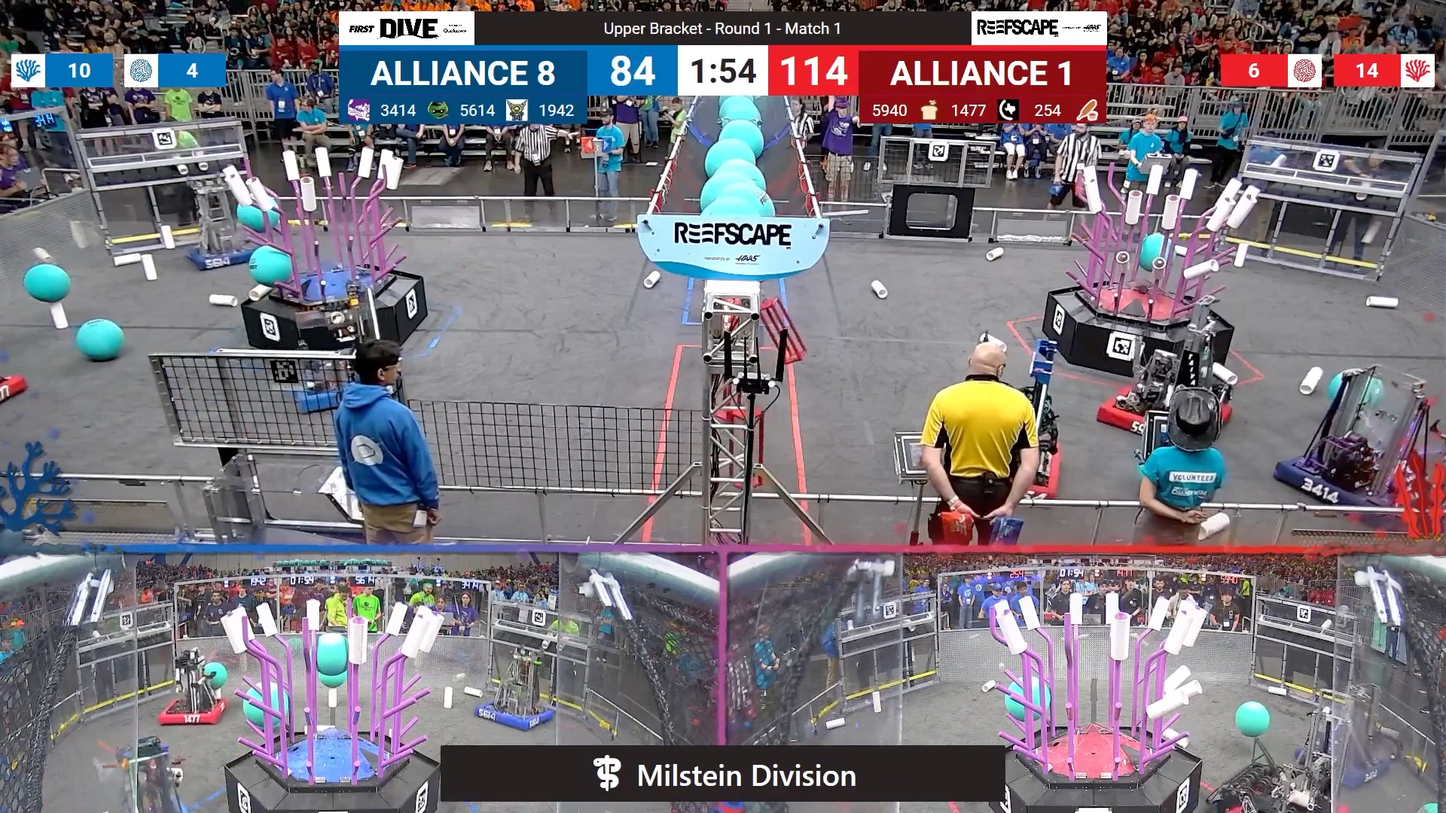bumpers: (1264, 447, 1442, 526), (1088, 378, 1239, 442), (944, 431, 1070, 506), (1296, 745, 1393, 792), (1206, 783, 1357, 812), (474, 695, 562, 734), (152, 695, 233, 731), (182, 242, 268, 275), (0, 365, 34, 424)
